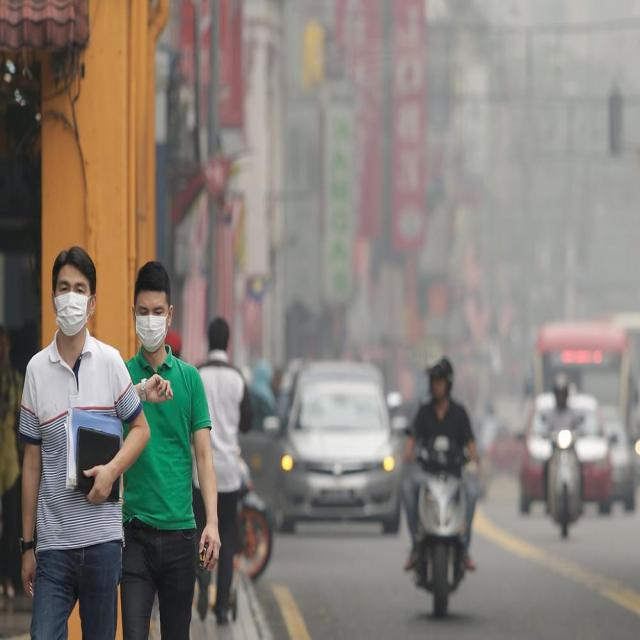face: (52, 264, 93, 340), (134, 281, 171, 357), (426, 373, 451, 407)
